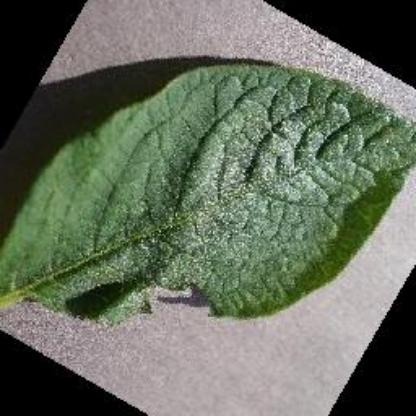Healthy-plant: (4, 58, 412, 328)
